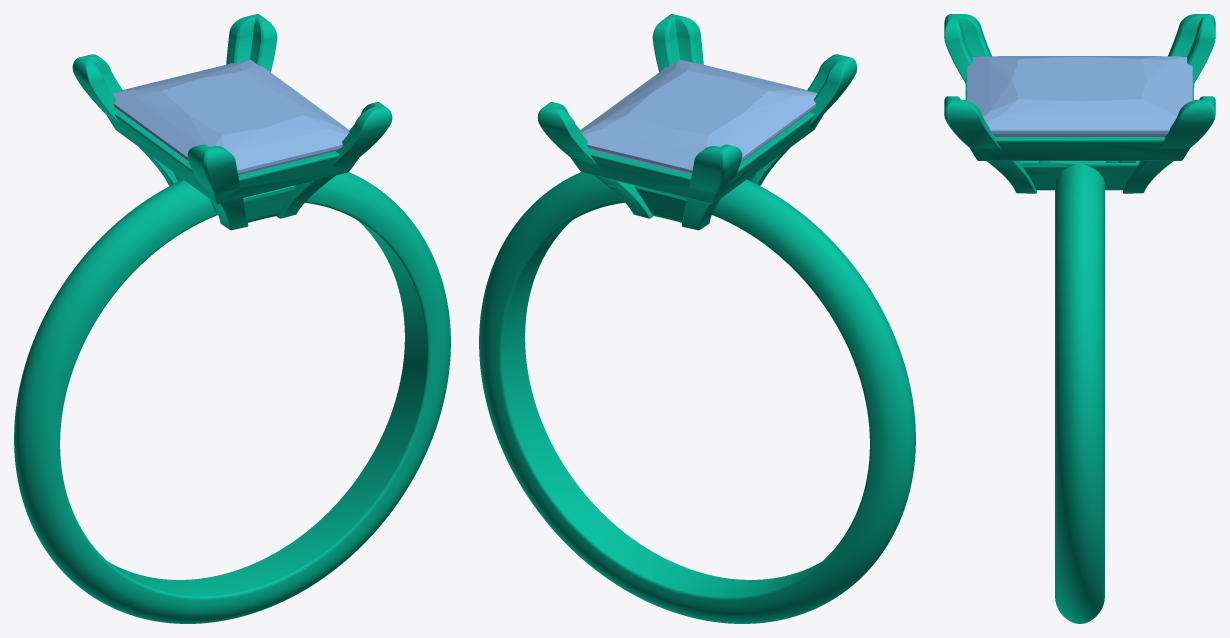
3 renders of one model, left to right at view 1: azimuth 30°, elevation 25°; view 2: azimuth 150°, elevation 25°; view 3: azimuth 270°, elevation 25°, orthographic.
Parts seen in each view (by area): view 1: 3.3dm, Diamond_Princess; view 2: 3.3dm, Diamond_Princess; view 3: 3.3dm, Diamond_Princess.
Part boxes in pixels (bbox=[...]): 3.3dm: bbox=[14, 14, 450, 623]; Diamond_Princess: bbox=[112, 59, 349, 174]; 3.3dm: bbox=[479, 14, 915, 623]; Diamond_Princess: bbox=[580, 59, 817, 174]; 3.3dm: bbox=[944, 14, 1215, 623]; Diamond_Princess: bbox=[967, 56, 1192, 136].
Bounding box in the file's own units: 2.44 × 2.89 × 1.31.
